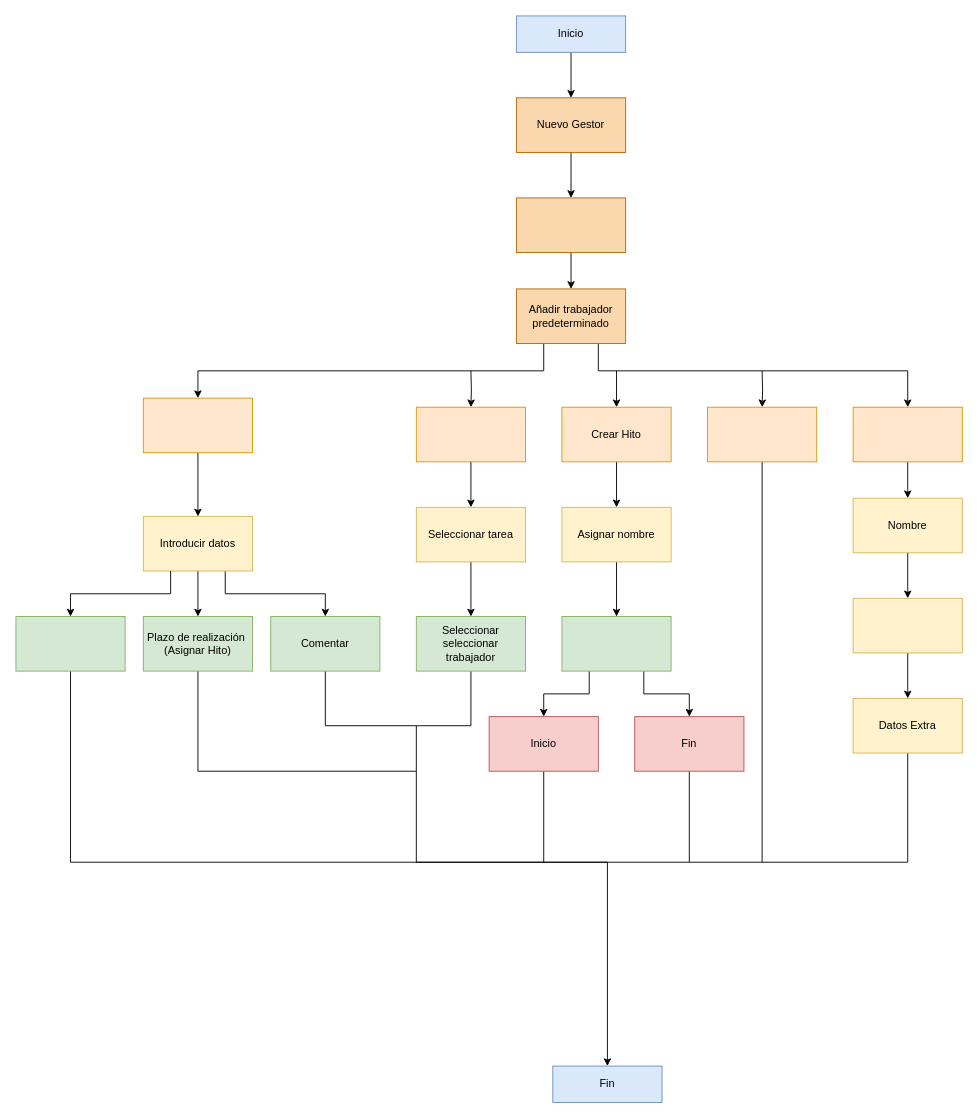
This 978x1118 diagram has some shape labels left out. The shapes that lost their labels are listed below. From the top down, each one's centre as x and y in pixels, then its label:
At point 571,225: "Introducir nombre del sistema de gestión".
At point 197,425: "Crear una nueva tarea".
At point 470,434: "Asignar tarea".
At point 762,434: "Consultar progreso".
At point 907,434: "Añadir nuevo trabajador".
At point 70,643: "Nombre tarea".
At point 616,643: "Asignar fecha".
At point 907,625: "Rol".
